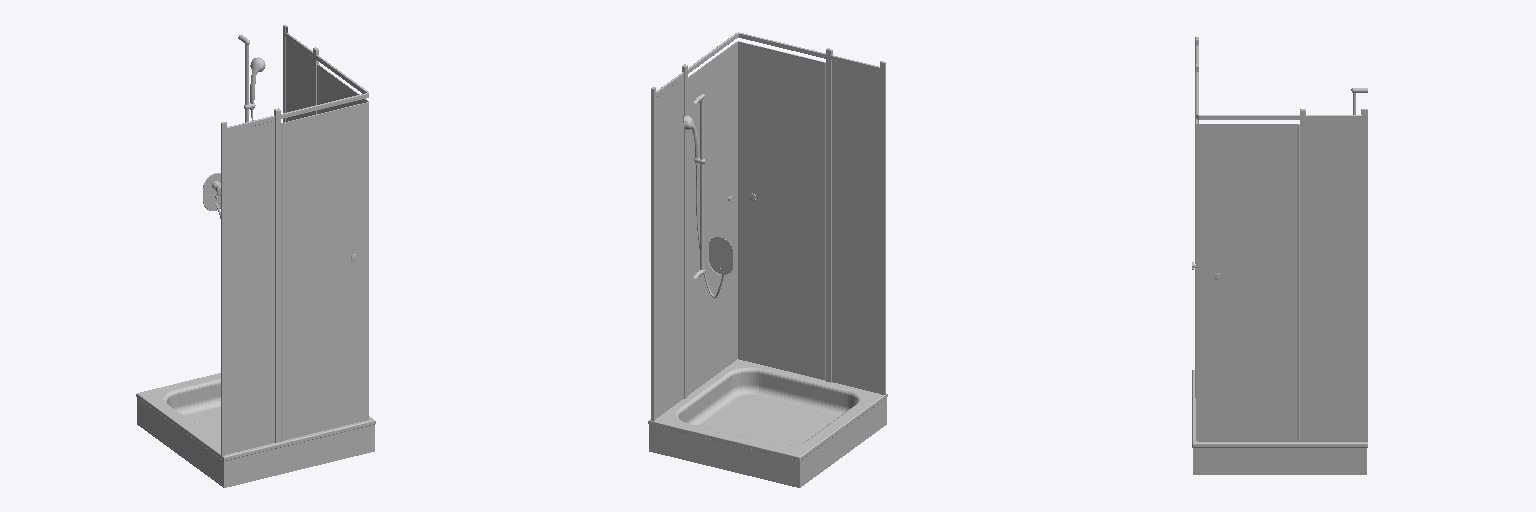
File: Shower.obj
3 renders of one model, left to right at view 1: azimuth 30°, elevation 25°; view 2: azimuth 150°, elevation 25°; view 3: azimuth 270°, elevation 25°, orthographic.
Parts seen in each view (by area): view 1: object_3, object_4, object_1, object_2; view 2: object_3, object_4, object_1, object_2; view 3: object_3, object_1, object_4.
Part boxes in pixels (left/top/right/bottom): object_3: left=227, top=38, right=368, bottom=453; object_4: left=136, top=373, right=375, bottom=487; object_1: left=221, top=25, right=368, bottom=455; object_2: left=188, top=35, right=265, bottom=423; object_3: left=656, top=41, right=879, bottom=418; object_4: left=648, top=359, right=887, bottom=487; object_1: left=651, top=32, right=885, bottom=421; object_2: left=683, top=94, right=732, bottom=298; object_3: left=1196, top=119, right=1361, bottom=441; object_1: left=1192, top=37, right=1367, bottom=441; object_4: left=1192, top=370, right=1367, bottom=474.
Size of the model in its own units: 0.91 by 2.08 by 0.91.